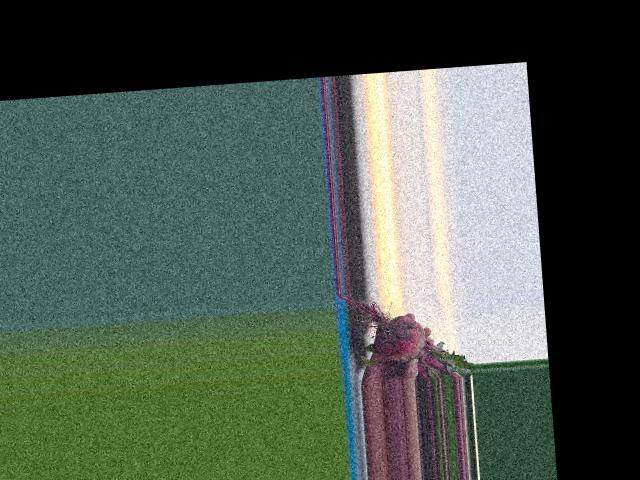beet: (338, 284, 474, 385)
